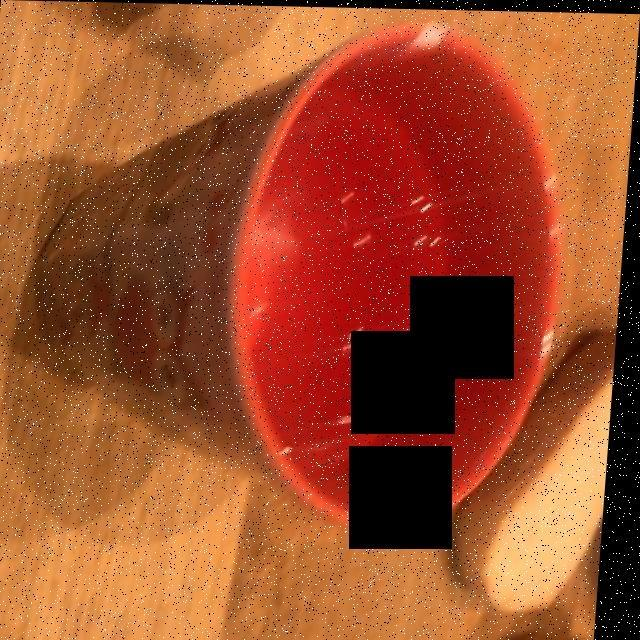water: (242, 96, 464, 477)
